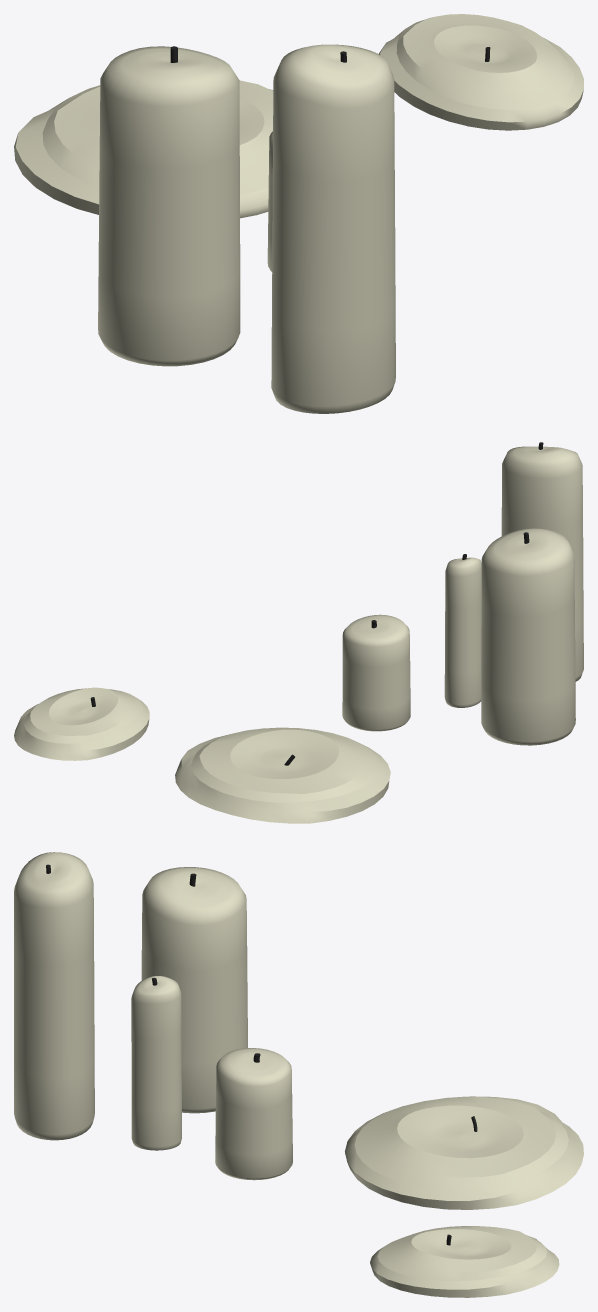
3 views of the same model, one above another, from view 1: azimuth 30°, elevation 25°; view 2: azimuth 150°, elevation 25°; view 3: azimuth 270°, elevation 25° (orthographic). The views are drawn at different scales.
Visible parts, largest first — view 1: CANDLEBIGTALL3, CANDLEBIG1, MELTED CANDLE.001, MELTED CANDLE, CANDLEBIG4; view 2: CANDLEBIG1, MELTED CANDLE, CANDLEBIGTALL3, MELTED CANDLE.001, CANDLEBIG4, CANDLESTALL2; view 3: CANDLEBIGTALL3, MELTED CANDLE, CANDLEBIG1, MELTED CANDLE.001, CANDLEBIG4, CANDLESTALL2.
Boxes of the visible parts, bbox=[...] form: CANDLEBIGTALL3: bbox=[271, 44, 395, 413]; CANDLEBIG1: bbox=[98, 46, 240, 366]; MELTED CANDLE.001: bbox=[379, 14, 583, 130]; MELTED CANDLE: bbox=[14, 80, 273, 218]; CANDLEBIG4: bbox=[267, 131, 272, 272]; CANDLEBIG1: bbox=[481, 528, 575, 745]; MELTED CANDLE: bbox=[175, 727, 390, 823]; CANDLEBIGTALL3: bbox=[501, 446, 583, 681]; MELTED CANDLE.001: bbox=[14, 687, 149, 760]; CANDLEBIG4: bbox=[342, 614, 410, 731]; CANDLESTALL2: bbox=[444, 557, 481, 707]; CANDLEBIGTALL3: bbox=[14, 852, 94, 1140]; MELTED CANDLE: bbox=[345, 1096, 583, 1209]; CANDLEBIG1: bbox=[141, 867, 247, 1113]; MELTED CANDLE.001: bbox=[370, 1226, 559, 1297]; CANDLEBIG4: bbox=[215, 1048, 292, 1180]; CANDLESTALL2: bbox=[131, 976, 181, 1150].
Size of the model in its own units: 2145 by 1111 by 2208.
